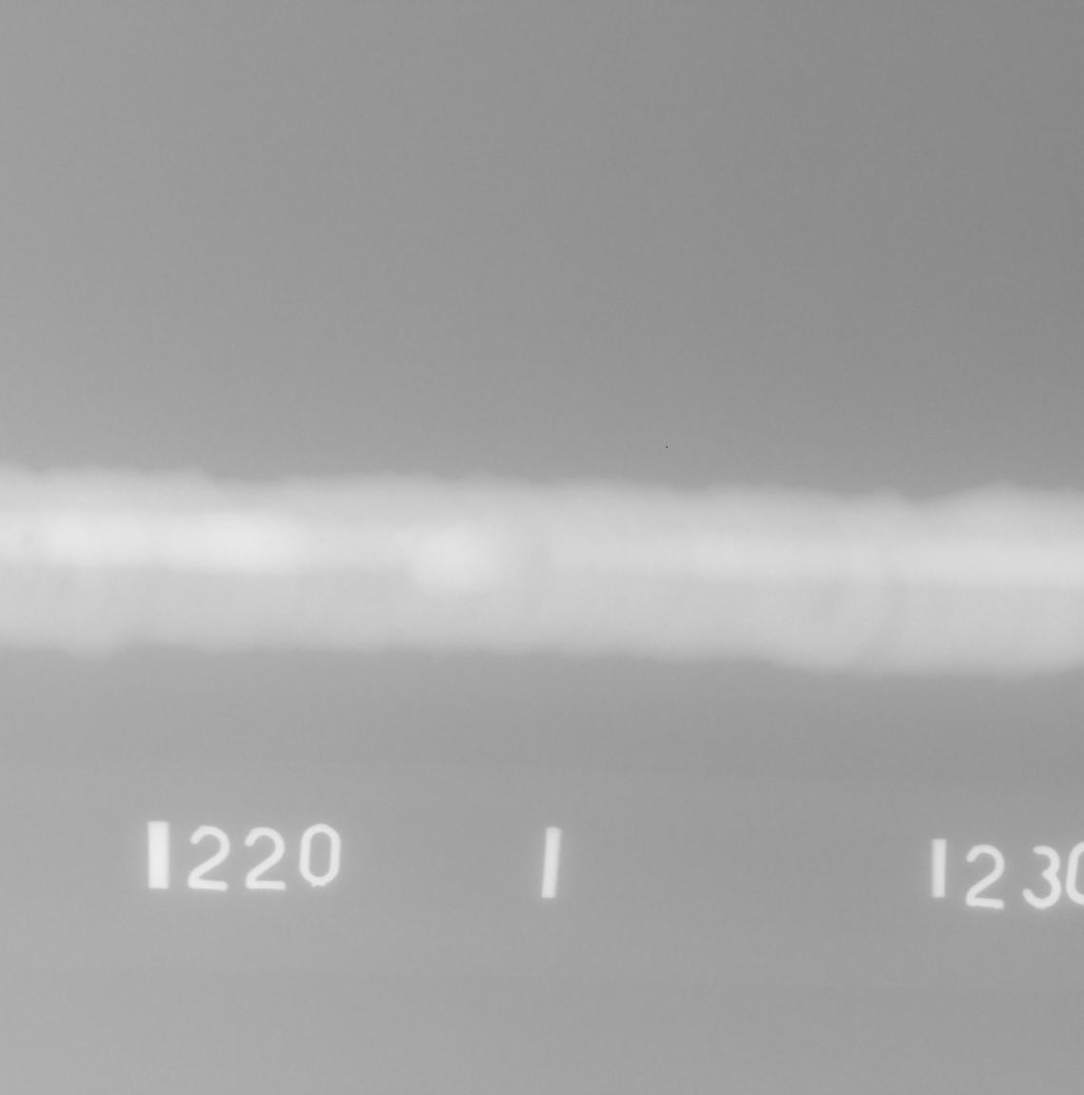Pore/Porosity: (320, 539, 325, 544)
